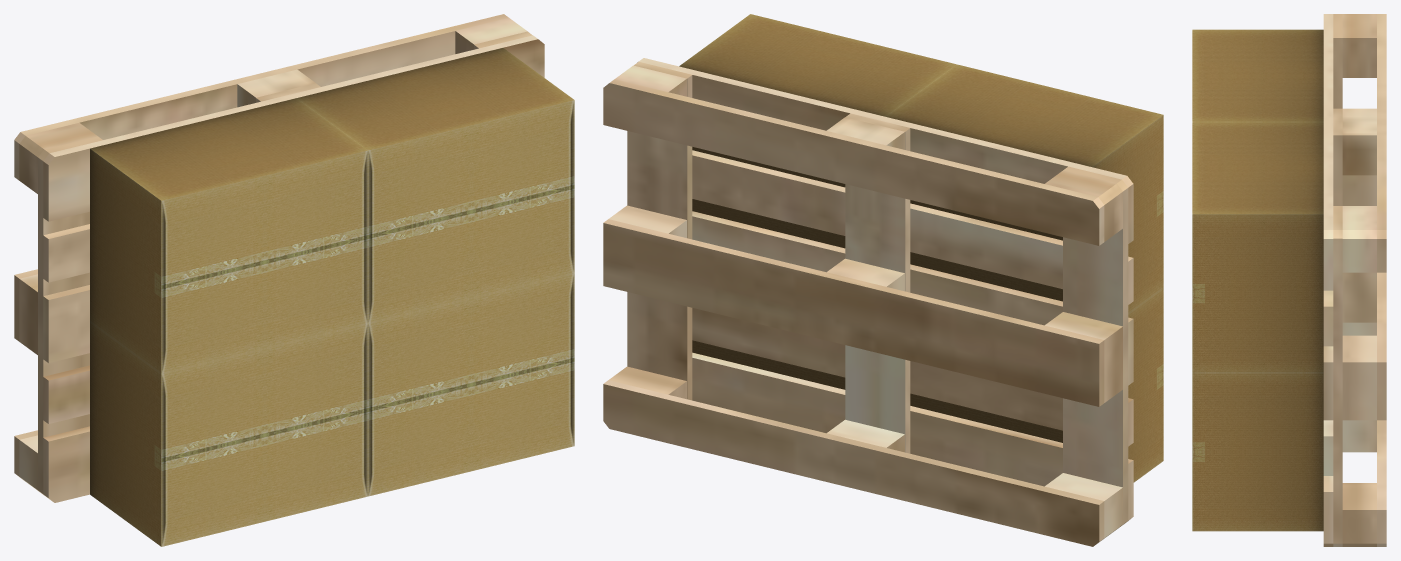
The model's file is euro_pallet_w_boxes.dae.
3 renders of one model, left to right at view 1: azimuth 30°, elevation 25°; view 2: azimuth 150°, elevation 25°; view 3: azimuth 270°, elevation 25°, orthographic. The views are drawn at different scales.
Visible parts, largest first — view 1: node; view 2: node; view 3: node.
Boxes of the visible parts, <box> form: node: <box>14,14,574,546</box>; node: <box>603,14,1163,546</box>; node: <box>1192,14,1386,546</box>.
Bounding box in the file's own units: 1.2 × 0.8 × 0.444.
Materials: 2 (2 with a texture image).
